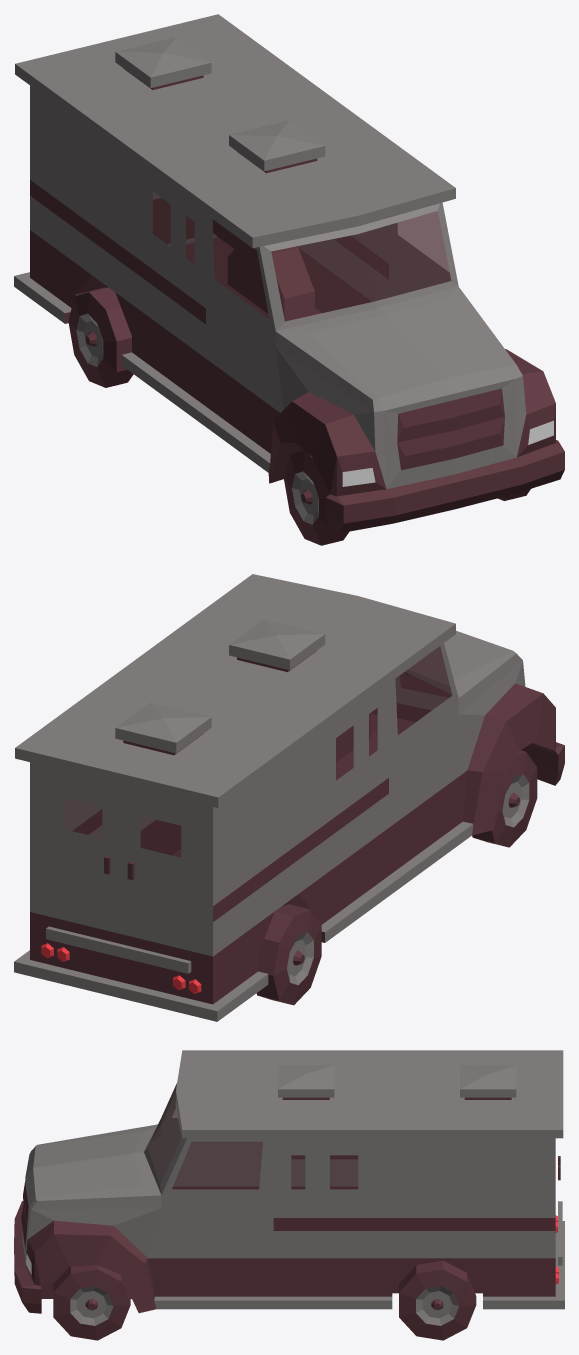
File: armored-truck.fbx
The picture shows the model from 3 angles, top to bottom: view 1: azimuth 30°, elevation 25°; view 2: azimuth 150°, elevation 25°; view 3: azimuth 270°, elevation 25°; orthographic projection. The views are drawn at different scales.
Parts seen in each view (by area): view 1: armored-truck-base, armored-truck-wheel_BR, armored-truck-wheel_FR; view 2: armored-truck-base, armored-truck-wheel_BR, armored-truck-wheel_FR; view 3: armored-truck-base, armored-truck-wheel_BL, armored-truck-wheel_FL.
Boxes of the visible parts, <box> form: armored-truck-base: <box>14,14,564,533</box>; armored-truck-wheel_BR: <box>68,287,133,387</box>; armored-truck-wheel_FR: <box>284,450,348,545</box>; armored-truck-base: <box>14,574,564,1021</box>; armored-truck-wheel_BR: <box>256,904,321,1005</box>; armored-truck-wheel_FR: <box>472,750,537,847</box>; armored-truck-base: <box>14,1050,564,1313</box>; armored-truck-wheel_BL: <box>399,1260,476,1340</box>; armored-truck-wheel_FL: <box>53,1265,130,1340</box>.
Size of the model in its own units: 2.29 by 2.66 by 5.85.
